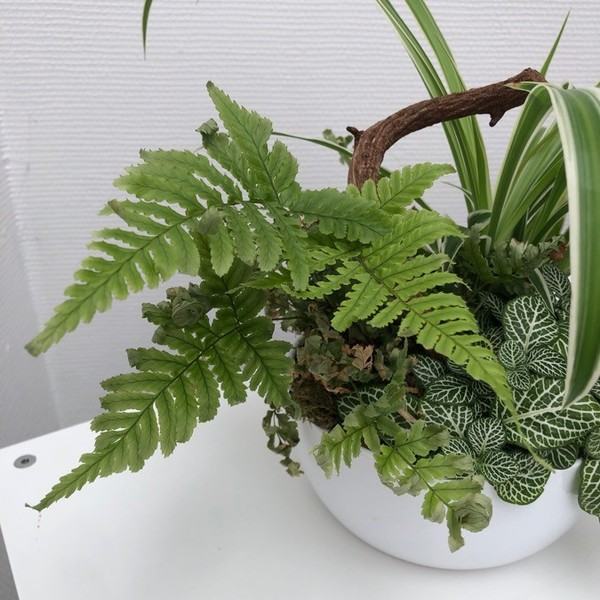obstacle: (75, 79, 570, 575)
